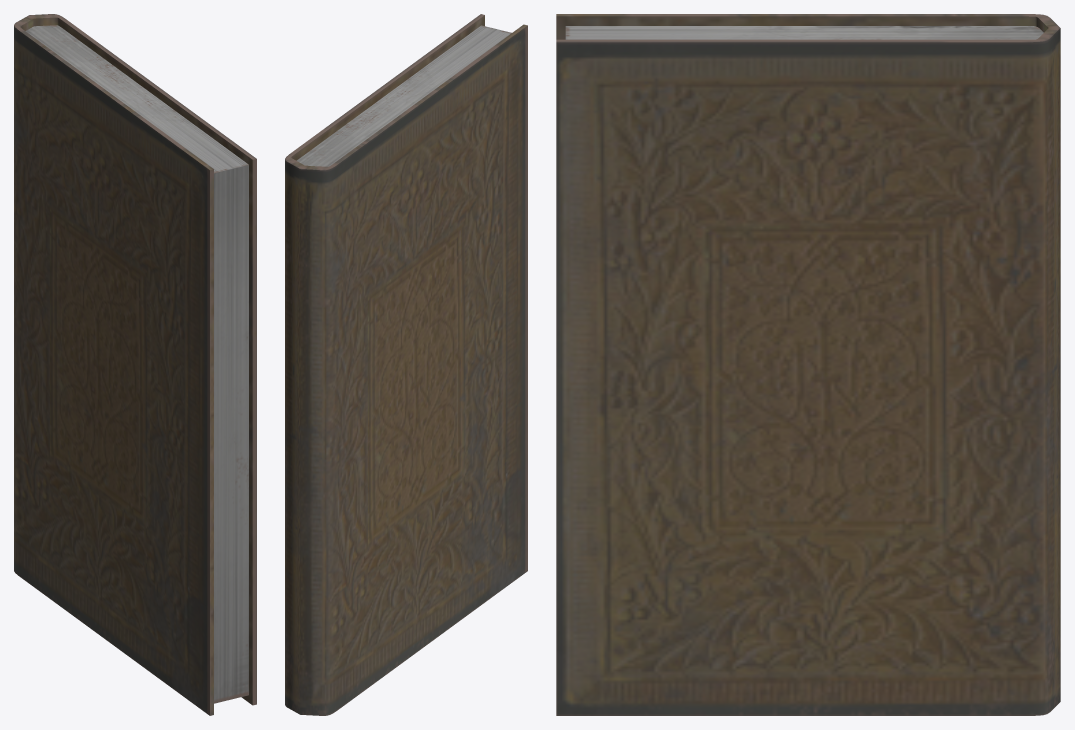
File: SM_BookSet_A3.fbx
3 views of the same model, side by side, from view 1: azimuth 30°, elevation 25°; view 2: azimuth 150°, elevation 25°; view 3: azimuth 270°, elevation 25° (orthographic). The views are drawn at different scales.
Visible parts, largest first — view 1: SM_BookSet_A3; view 2: SM_BookSet_A3; view 3: SM_BookSet_A3.
Boxes of the visible parts, bbox=[...] form: SM_BookSet_A3: bbox=[14, 14, 256, 715]; SM_BookSet_A3: bbox=[285, 14, 527, 715]; SM_BookSet_A3: bbox=[556, 14, 1060, 715].
Size of the model in its own units: 1.96 by 14.78 by 21.8.
Materials: 1 (1 with a texture image).
